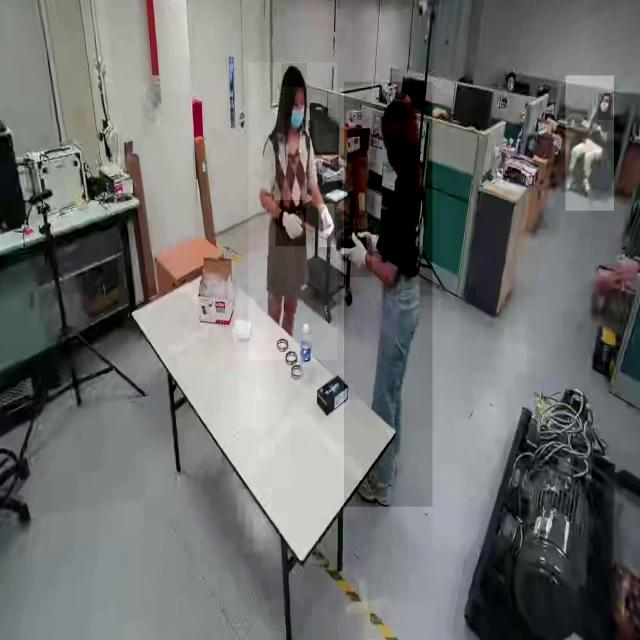face_mask: (285, 87, 307, 135), (598, 93, 613, 120)
hand_glove: (341, 228, 372, 278), (276, 200, 306, 247), (353, 220, 381, 262), (319, 204, 335, 248)
head_nohelmet: (381, 91, 417, 121), (282, 63, 308, 88), (602, 90, 612, 96)
person: (344, 81, 433, 508), (248, 62, 338, 361), (566, 76, 614, 212)
